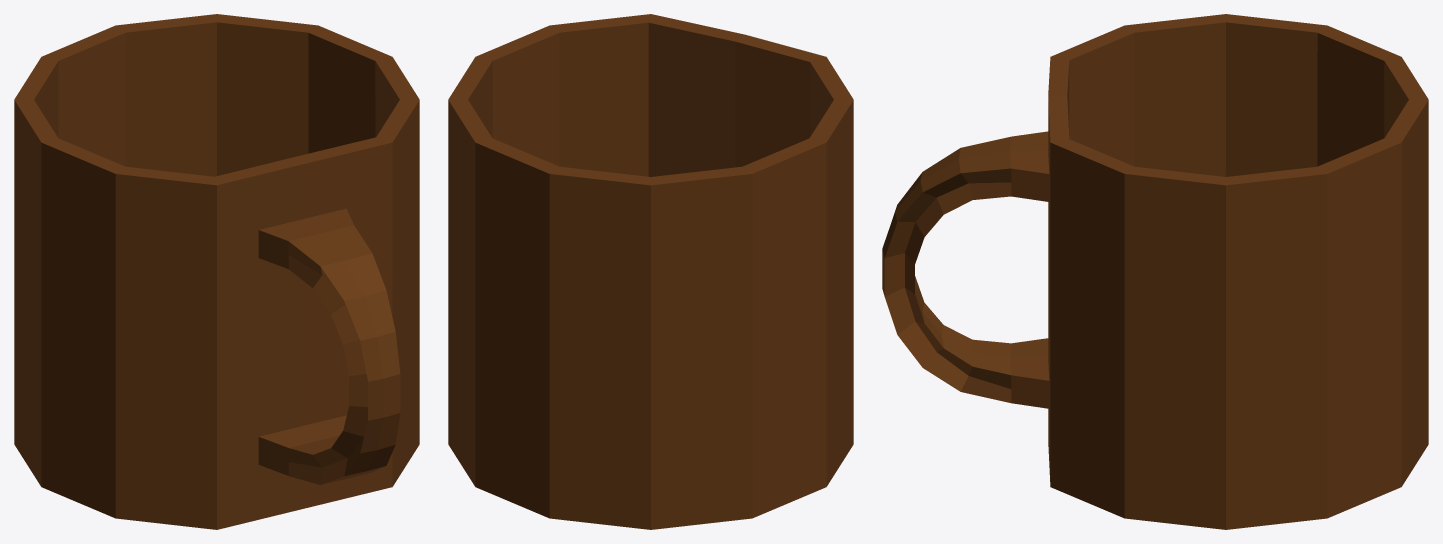
The model's file is wooden_mug.glb.
3 renders of one model, left to right at view 1: azimuth 30°, elevation 25°; view 2: azimuth 150°, elevation 25°; view 3: azimuth 270°, elevation 25°, orthographic.
Parts seen in each view (by area): view 1: Cylinder; view 2: Cylinder; view 3: Cylinder.
Boxes of the visible parts, x1,y1,x2,y2 form: Cylinder: (14,14,419,529); Cylinder: (448,14,853,529); Cylinder: (882,14,1428,529).
Bounding box in the file's own units: 0.16 × 0.1505 × 0.2156.
